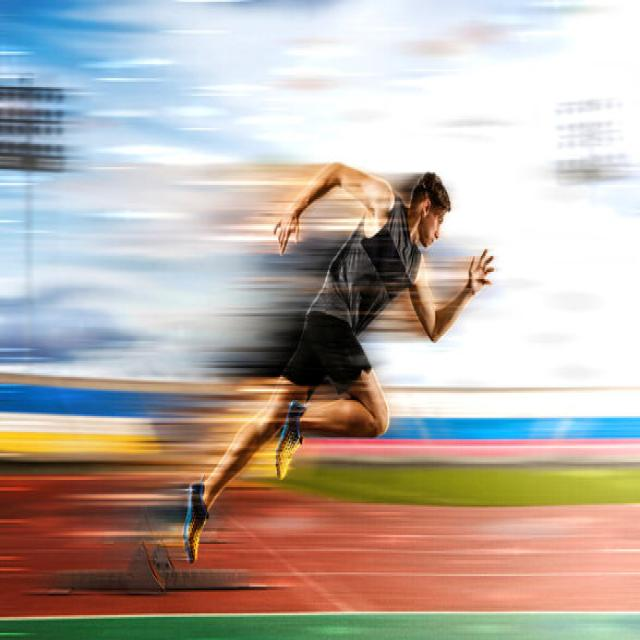Person: (185, 162, 496, 561)
